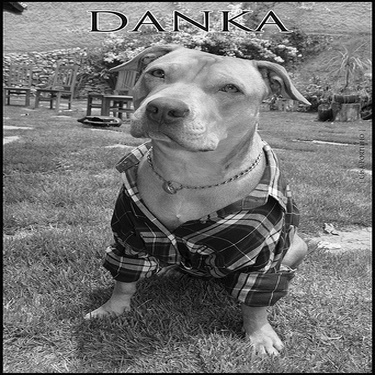dog: (87, 40, 315, 364)
